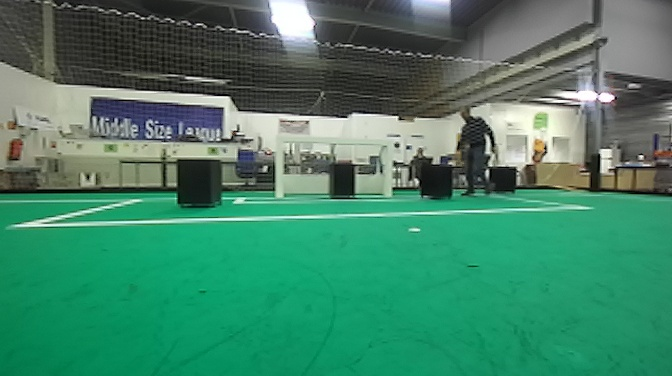goalpost: (271, 132, 290, 200), (373, 139, 393, 200)
human: (445, 104, 498, 199)
